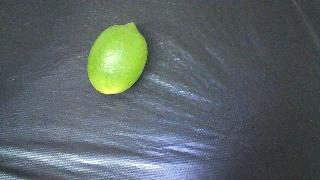LOCAL: (87, 22, 148, 95)
